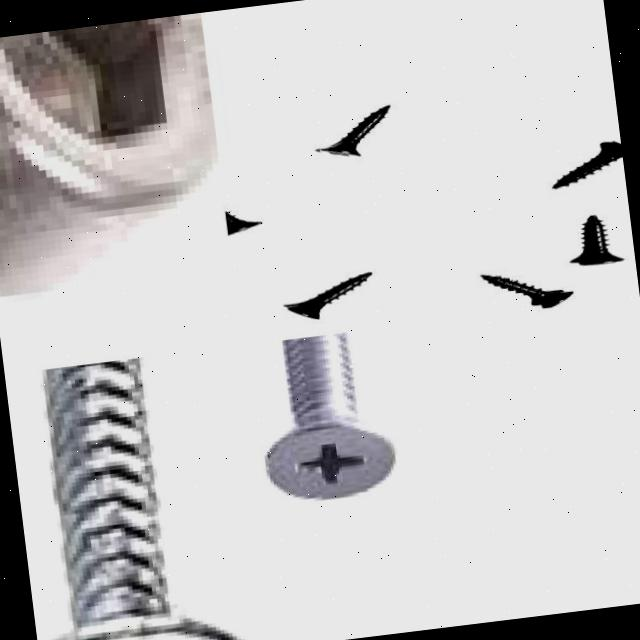Screw: (0, 12, 218, 293), (42, 357, 236, 640), (263, 332, 393, 499), (285, 272, 373, 319), (316, 104, 392, 155), (554, 141, 622, 188), (482, 275, 575, 308), (571, 215, 625, 265), (225, 209, 262, 235)
